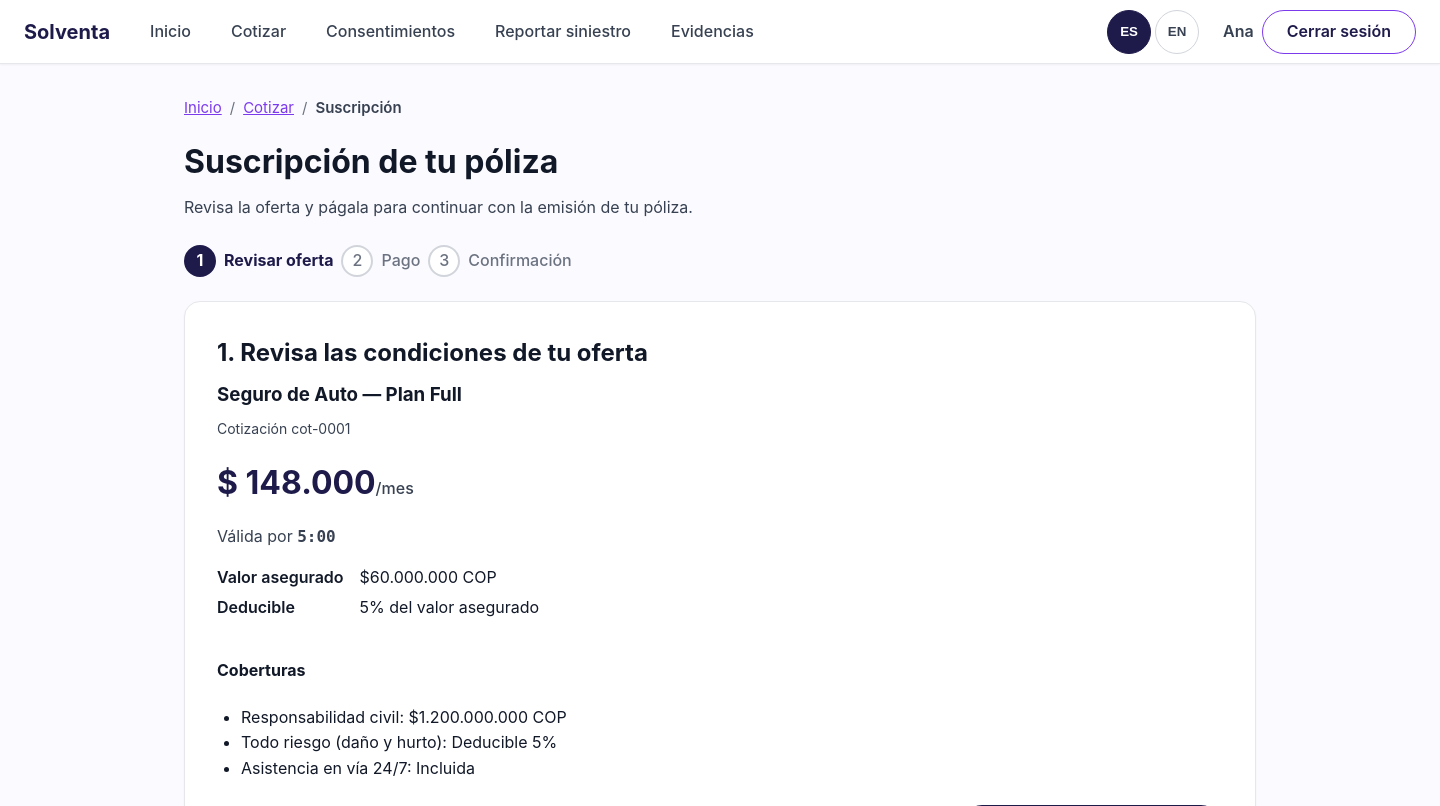
Test: Checkout de la suscripción (WEB-F03, rebanada del Sprint 1) › criterio 3: las migas de pan muestran el paso y cómo volver › la miga Cotizar lleva de vuelta al cotizador
expect the heading "Suscripción de tu póliza" is shown: met, box [184,142,558,181]
What coordinates should you click on to do the following:
click the 2nd link "Cotizar"
I would click on:
 (269, 108)
Its box is [243,98,294,117].
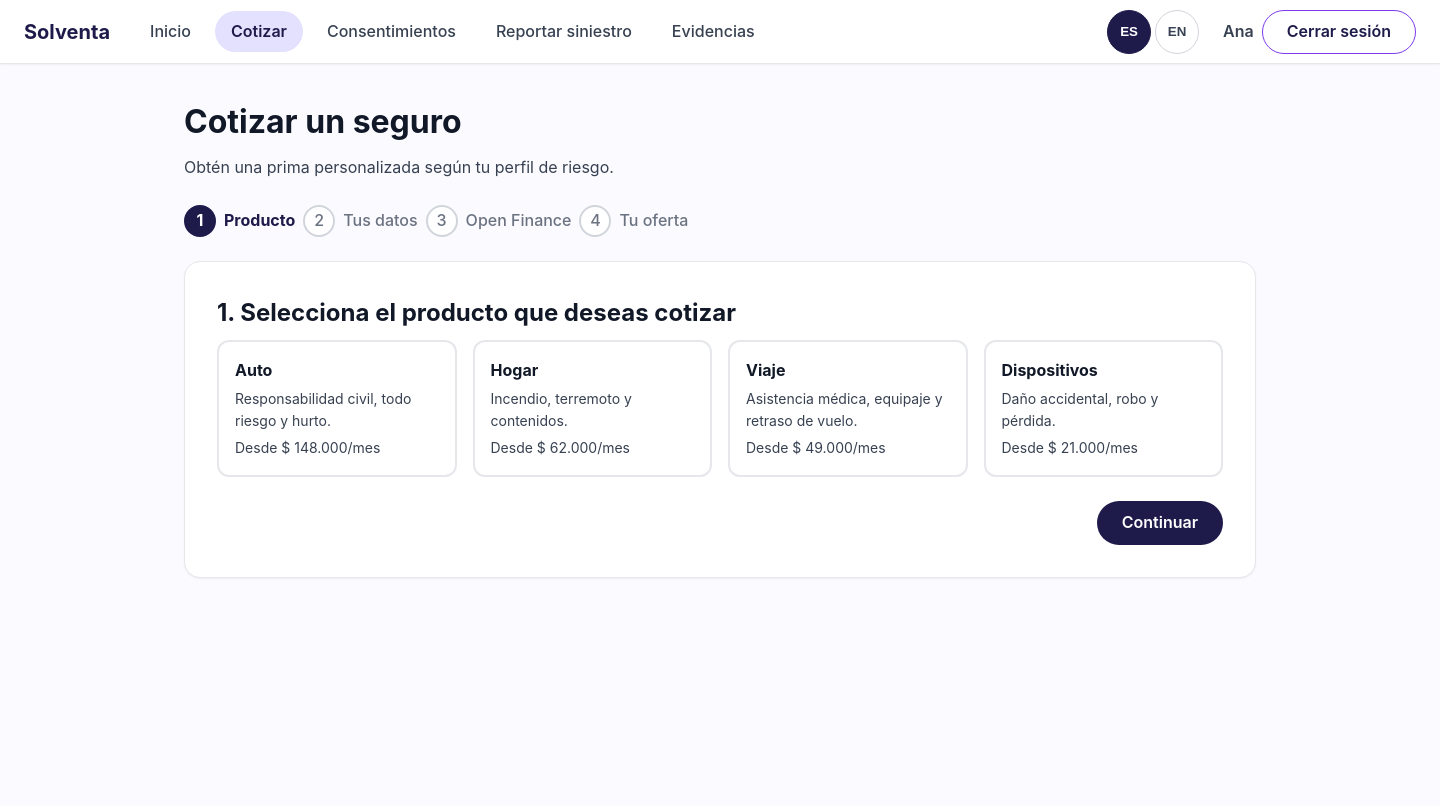
expect the heading "Cotizar un seguro" is shown: met, box [184,102,462,141]
